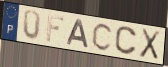0: (22, 9, 42, 41)
A: (66, 18, 90, 50)
C: (114, 25, 138, 56), (91, 22, 115, 52)
F: (45, 13, 66, 43)
X: (138, 27, 162, 62)
